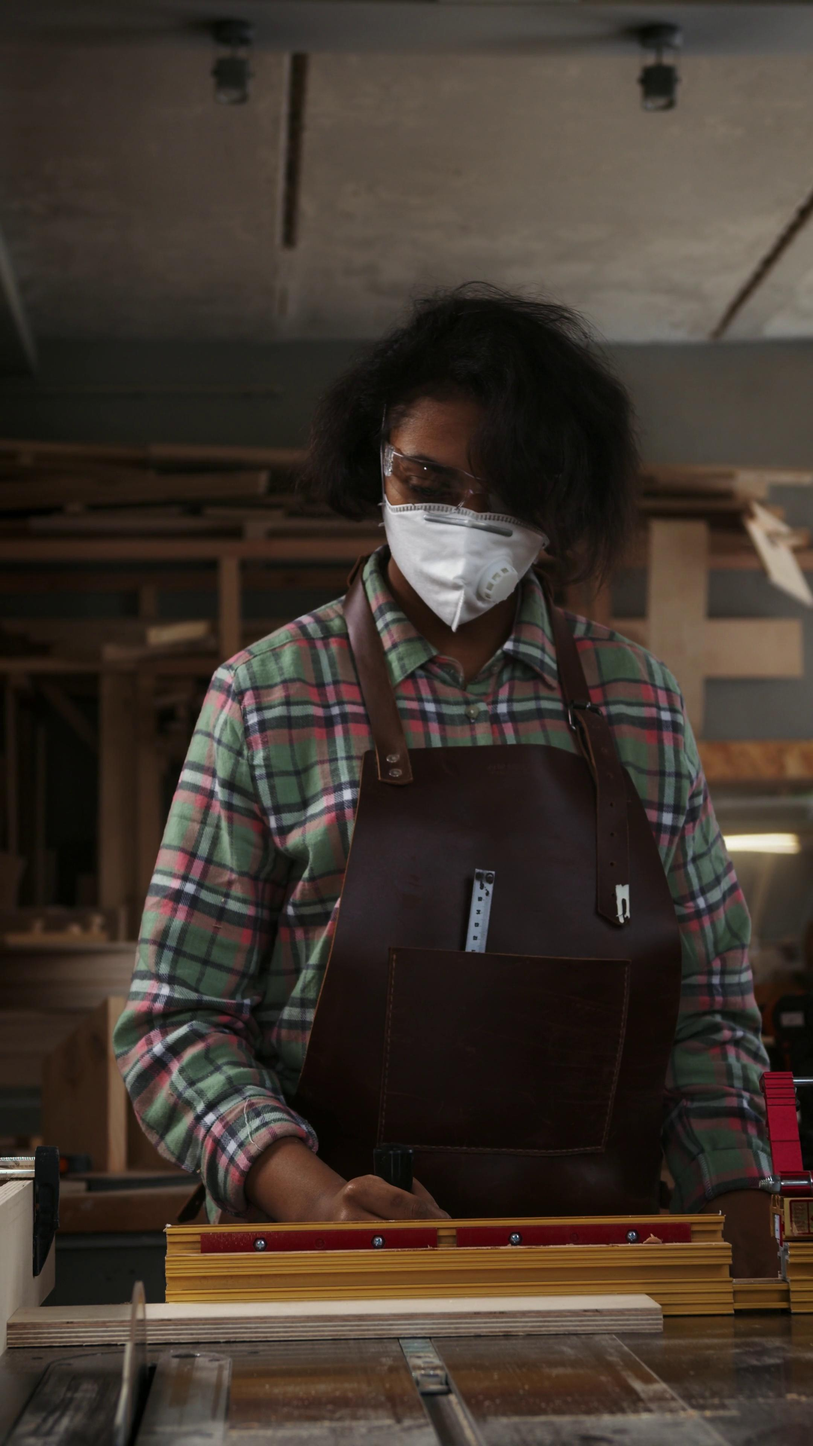mask: (384, 499, 550, 632)
person: (109, 287, 781, 1281)
